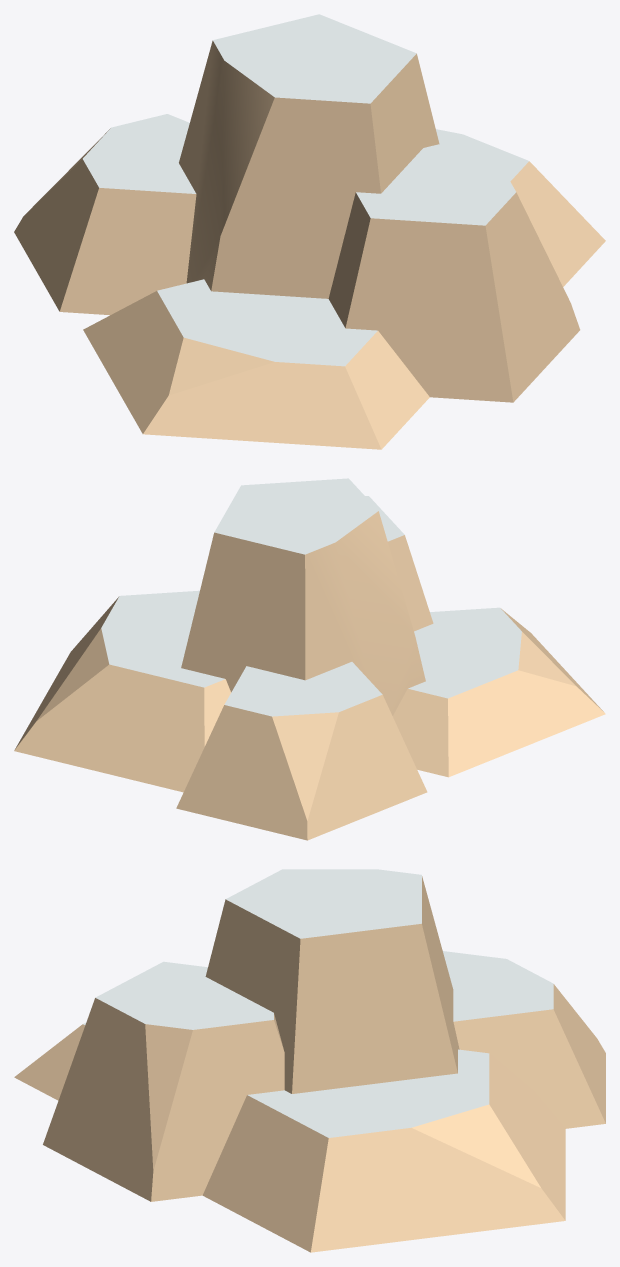
Rendered from rock.fbx.
3 views of the same model, one above another, from view 1: azimuth 30°, elevation 25°; view 2: azimuth 150°, elevation 25°; view 3: azimuth 270°, elevation 25° (orthographic). The views are drawn at different scales.
Visible parts, largest first — view 1: snow_detail_dirtLarge; view 2: snow_detail_dirtLarge; view 3: snow_detail_dirtLarge.
Boxes of the visible parts, bbox=[...] form: snow_detail_dirtLarge: bbox=[14, 14, 605, 449]; snow_detail_dirtLarge: bbox=[14, 478, 605, 840]; snow_detail_dirtLarge: bbox=[14, 869, 605, 1252].
Bounding box in the file's own units: 1 × 0.4186 × 1.
